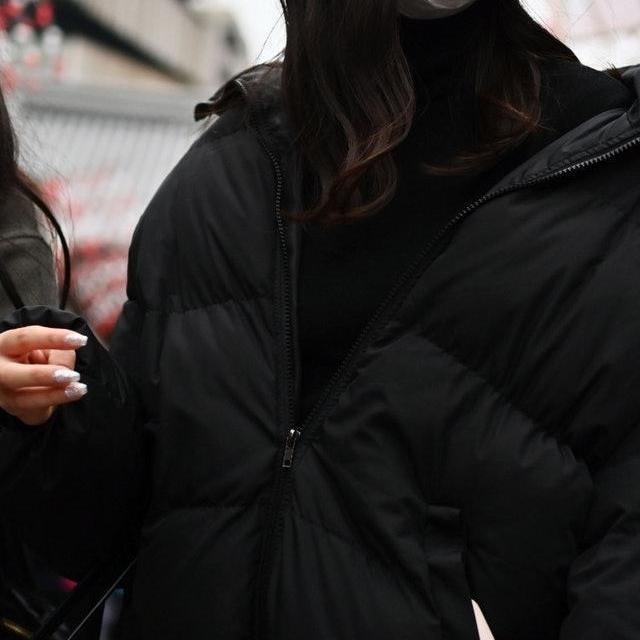NO-Safety Vest: (125, 86, 623, 640)
Person: (0, 0, 640, 640)
